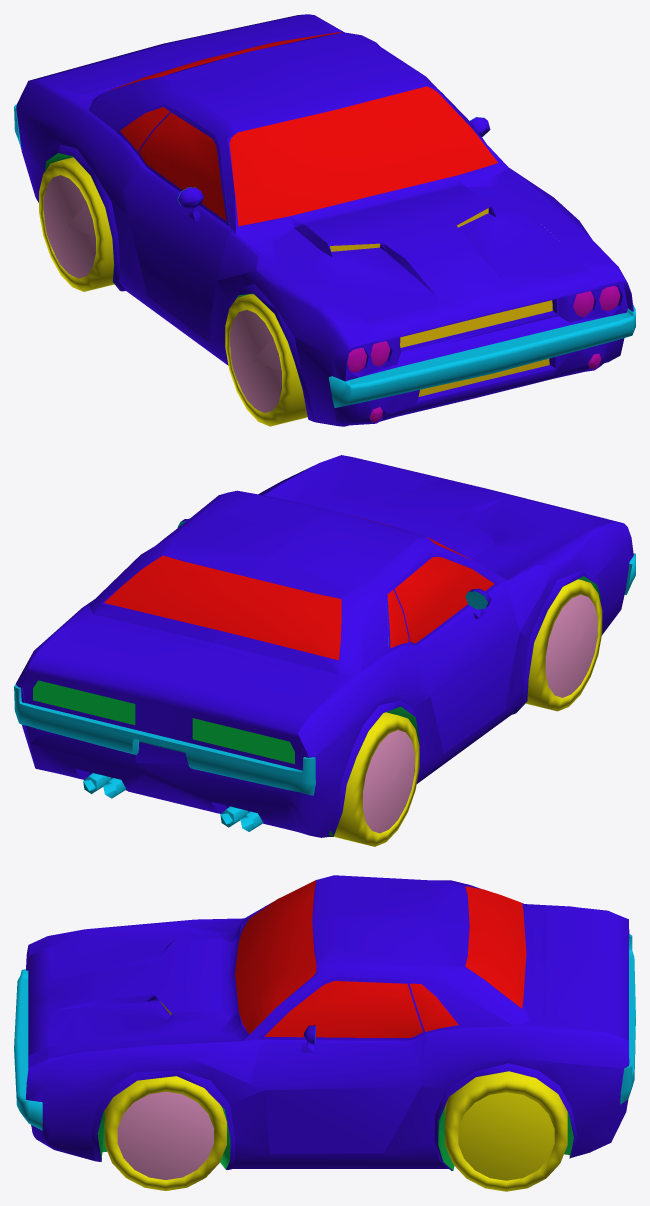
File: Car03_Low_ColorCoded.fbx
3 renders of one model, top to bottom at view 1: azimuth 30°, elevation 25°; view 2: azimuth 150°, elevation 25°; view 3: azimuth 270°, elevation 25°, orthographic. The views are drawn at different scales.
Parts seen in each view (by area): view 1: car_carBody, car_chrome, tireBackR_low, tireFrontR_low; view 2: car_carBody, tireBackR_low, car_chrome, tireFrontR_low; view 3: car_carBody, tireBackL_low, tireFrontL_low, car_chrome.
Part boxes in pixels (x1,y1,x2,y2): car_carBody: [16, 14, 633, 426]; car_chrome: [14, 104, 635, 407]; tireBackR_low: [39, 157, 114, 291]; tireFrontR_low: [225, 294, 307, 426]; car_carBody: [16, 455, 633, 837]; tireBackR_low: [334, 712, 419, 846]; car_chrome: [14, 553, 635, 795]; tireFrontR_low: [525, 579, 602, 711]; car_carBody: [26, 875, 629, 1170]; tireBackL_low: [445, 1071, 567, 1191]; tireFrontL_low: [104, 1076, 226, 1190]; car_chrome: [14, 934, 635, 1130].
Size of the model in its own units: 63.02 by 114 by 41.37.
